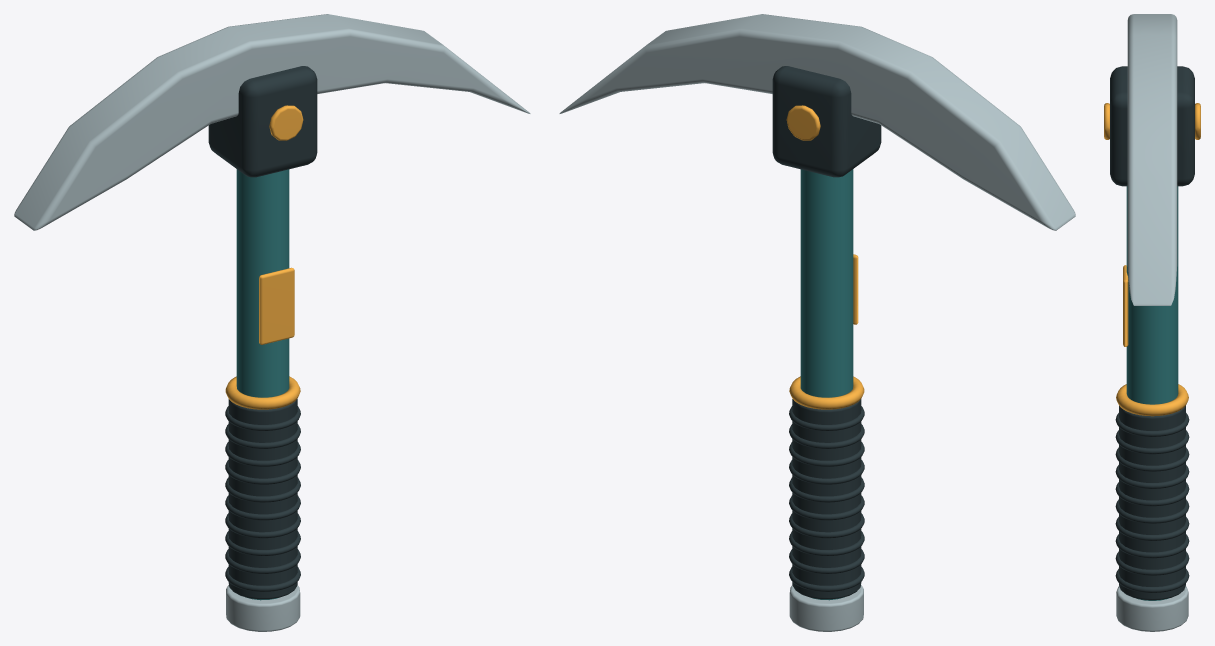
Rendered from pickaxe-refined.fbx.
3 views of the same model, side by side, from view 1: azimuth 30°, elevation 25°; view 2: azimuth 150°, elevation 25°; view 3: azimuth 270°, elevation 25° (orthographic). The views are drawn at different scales.
Visible parts, largest first — view 1: Vesper_Pickaxe; view 2: Vesper_Pickaxe; view 3: Vesper_Pickaxe.
Boxes of the visible parts, x1,y1,x2,y2 form: Vesper_Pickaxe: (14,14,530,631); Vesper_Pickaxe: (559,14,1075,631); Vesper_Pickaxe: (1104,14,1200,631).
Size of the model in its own units: 315 by 356 by 54.6.
